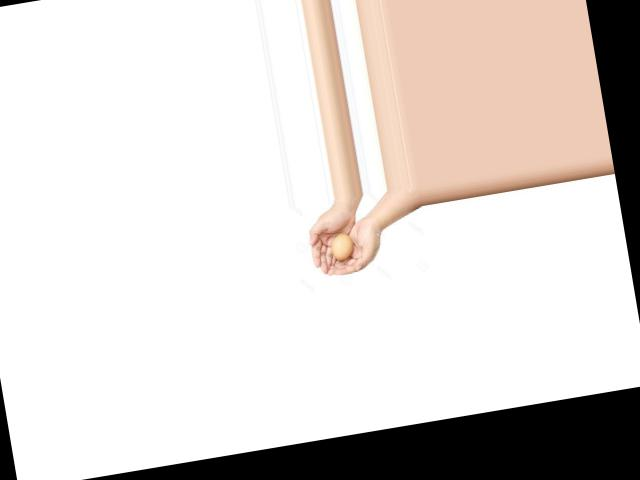egg: (330, 232, 355, 260)
